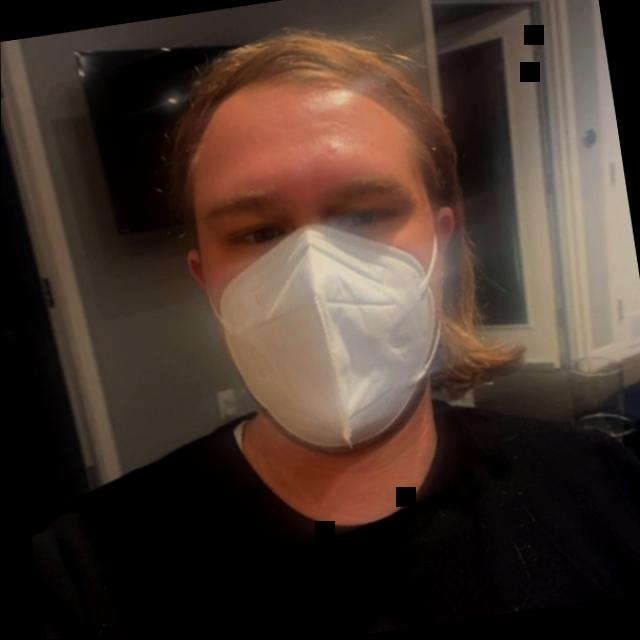Mask: (114, 0, 523, 486)
